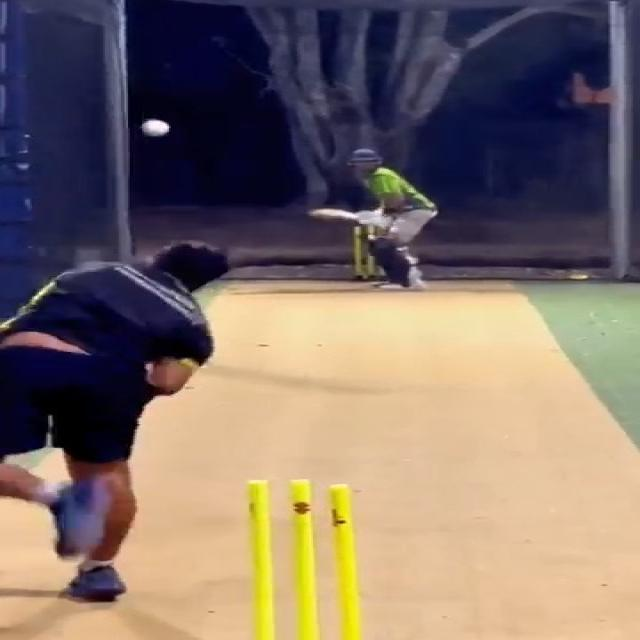ball: (140, 119, 172, 138)
stump: (244, 476, 365, 640)
